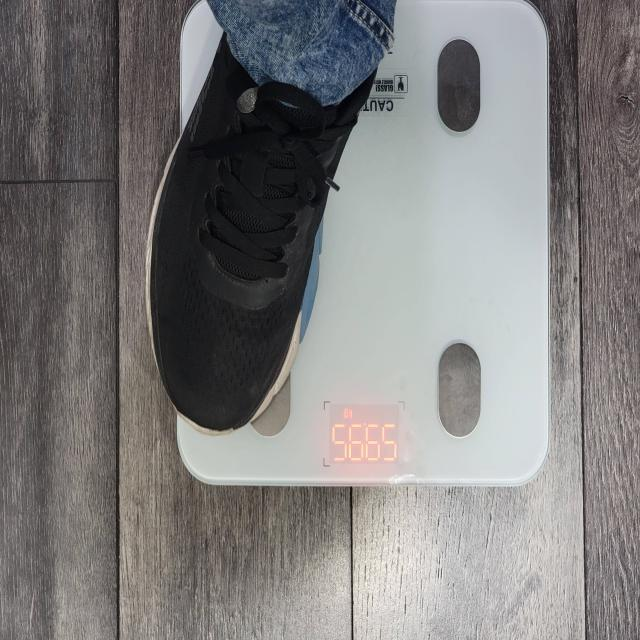ws: (175, 0, 551, 490)
